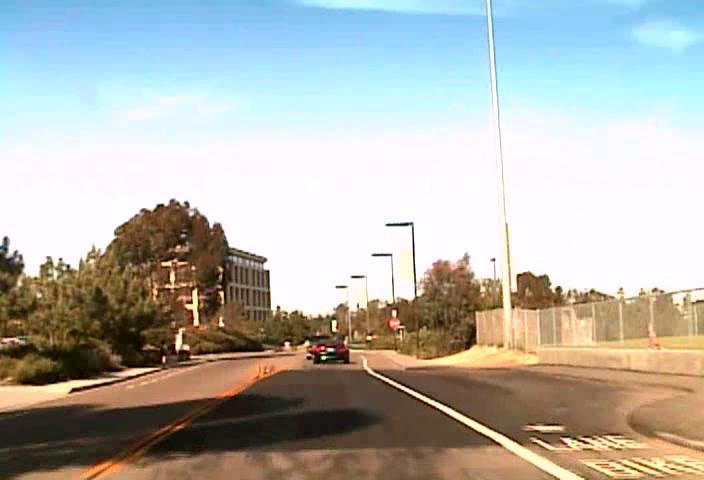stop: (388, 317, 400, 328)
